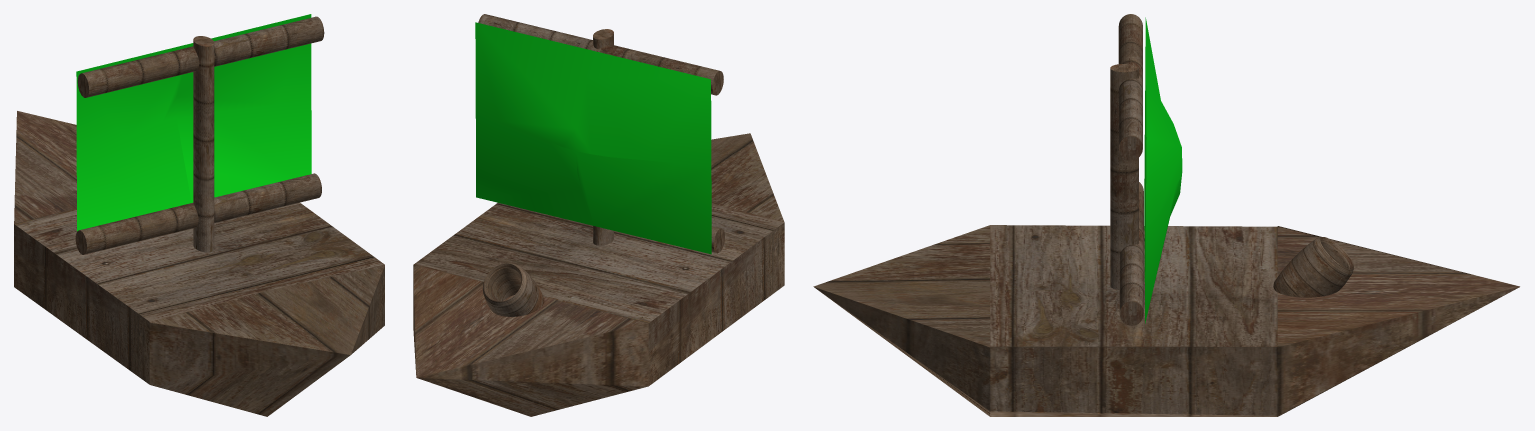
The model's file is player_ship.glb.
The picture shows the model from 3 angles, left to right: view 1: azimuth 30°, elevation 25°; view 2: azimuth 150°, elevation 25°; view 3: azimuth 270°, elevation 25°; orthographic projection. The views are drawn at different scales.
Visible parts, largest first — view 1: Cube, Plane, Cylinder.001, Cylinder; view 2: Cube, Plane, Cylinder.001, Torus, Cylinder; view 3: Cube, Plane, Cylinder.001, Cylinder, Torus.
Boxes of the visible parts, box(x1,y1,x2,y2) form: Cube: box(14, 111, 384, 416); Plane: box(76, 14, 311, 231); Cylinder.001: box(75, 16, 324, 254); Cylinder: box(193, 36, 214, 252); Cube: box(413, 133, 784, 416); Plane: box(475, 22, 711, 254); Cylinder.001: box(478, 14, 724, 253); Torus: box(482, 263, 544, 316); Cylinder: box(593, 29, 613, 245); Cube: box(813, 225, 1519, 416); Plane: box(1144, 17, 1182, 323); Cylinder.001: box(1118, 14, 1143, 325); Cylinder: box(1110, 64, 1138, 289); Torus: box(1273, 237, 1353, 297).
Bounding box in the file's own units: 2.02 × 2.68 × 4.92.
5 materials, 4 textured.
